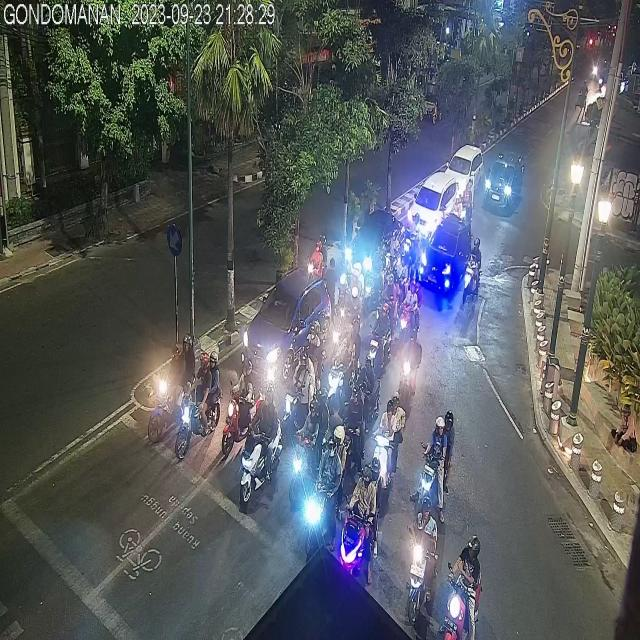car: (243, 268, 331, 377), (419, 216, 471, 294), (406, 171, 459, 239), (484, 148, 523, 212), (444, 144, 483, 201)
motorcycle: (303, 423, 344, 551), (240, 384, 283, 505), (146, 336, 194, 444), (340, 456, 379, 584), (176, 350, 220, 462), (415, 409, 455, 526), (442, 534, 482, 640), (220, 357, 261, 458), (280, 345, 318, 442), (407, 495, 435, 621), (373, 391, 405, 494), (328, 324, 360, 417), (340, 385, 368, 467), (369, 302, 392, 377), (398, 331, 420, 404), (399, 278, 422, 344), (464, 234, 484, 308), (308, 232, 327, 286), (460, 178, 473, 219)
